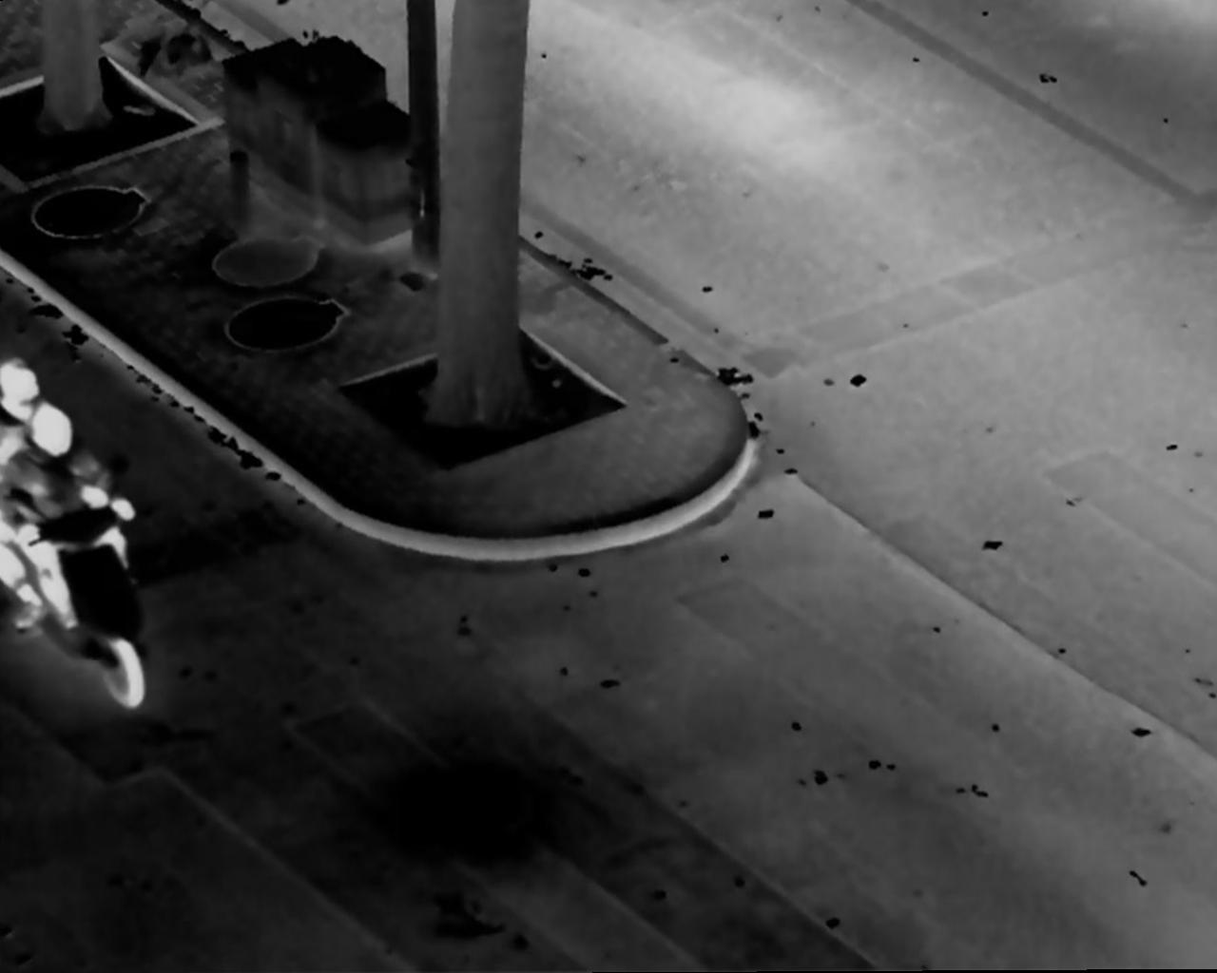person: (13, 403, 140, 628)
